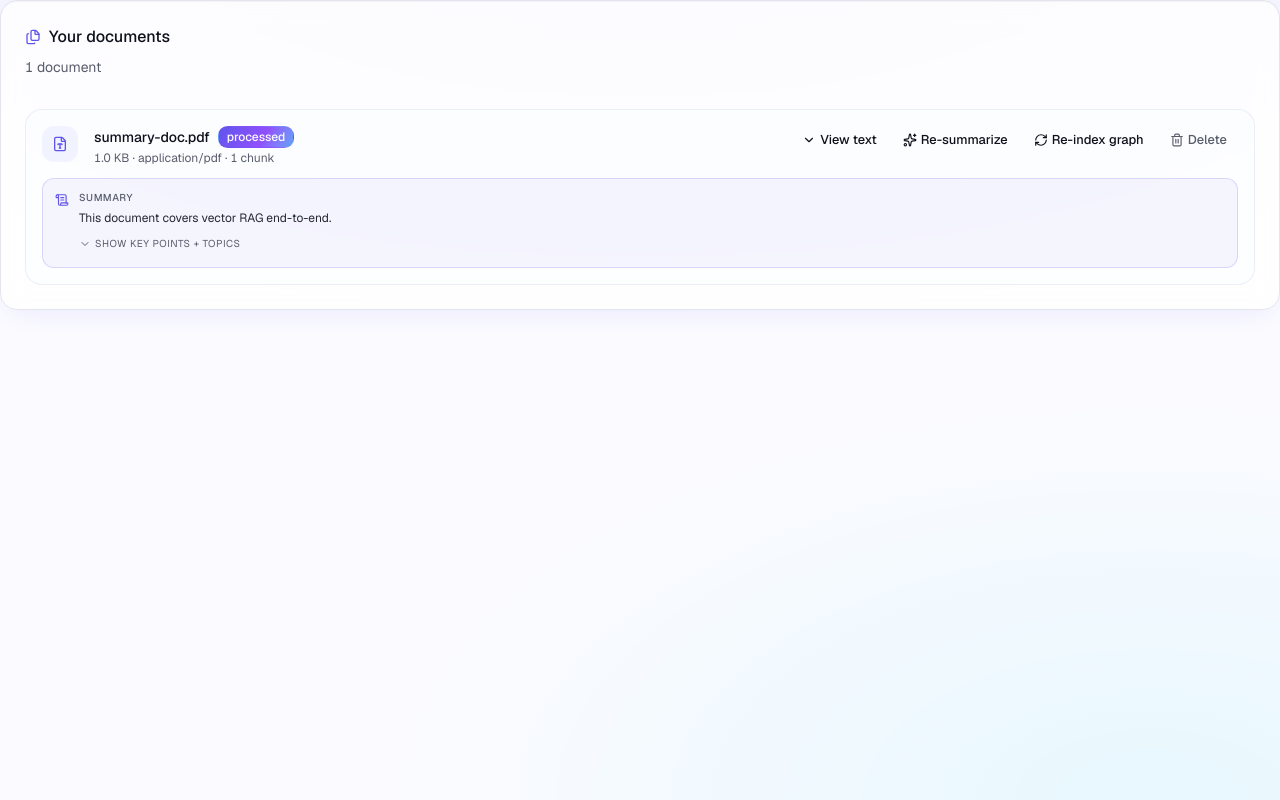
Test case: <DocumentsList /> › document summary › renders the TL;DR by default and the details only after expand
This screenshot has width=1280, height=800.
expect the text "This document covers vector RAG end-to-end." is shown: met, box [79,210,331,226]
Click the button with test id "summary-toggle".
click(160, 244)  # box [79,237,240,251]
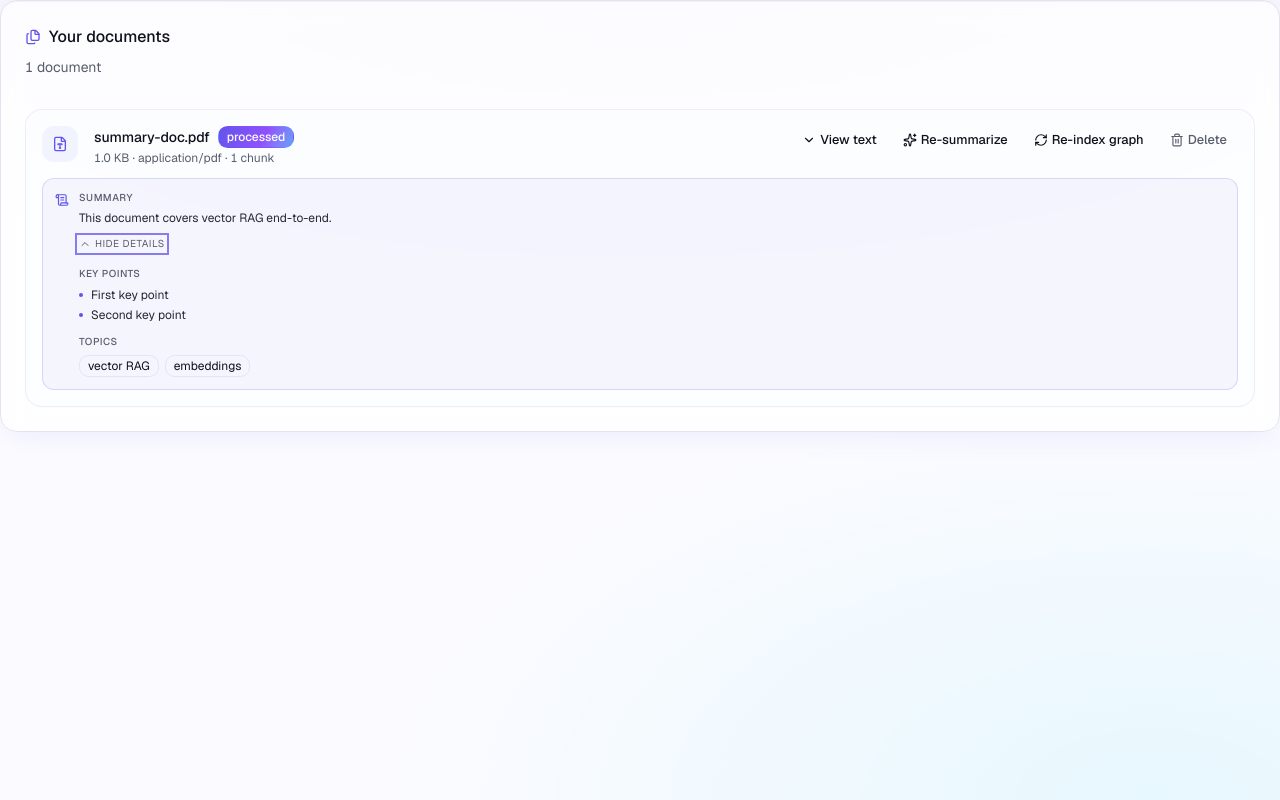
expect the element with test id "summary-details" shows "First key point": met, box [91,287,169,303]
expect the element with test id "summary-details" shows "Second key point": met, box [91,307,186,323]
expect the element with test id "summary-details" shows "vector RAG": met, box [88,358,150,374]
